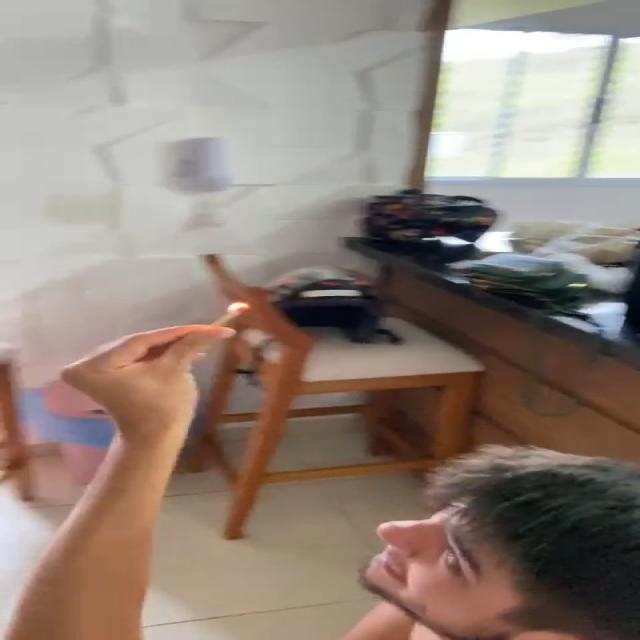fogo-ypXI: (226, 300, 250, 315)
